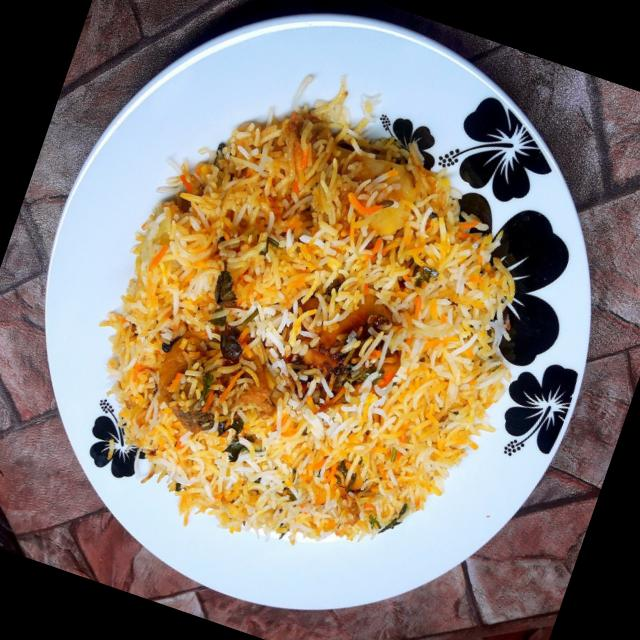Biryani: (56, 64, 567, 604)
